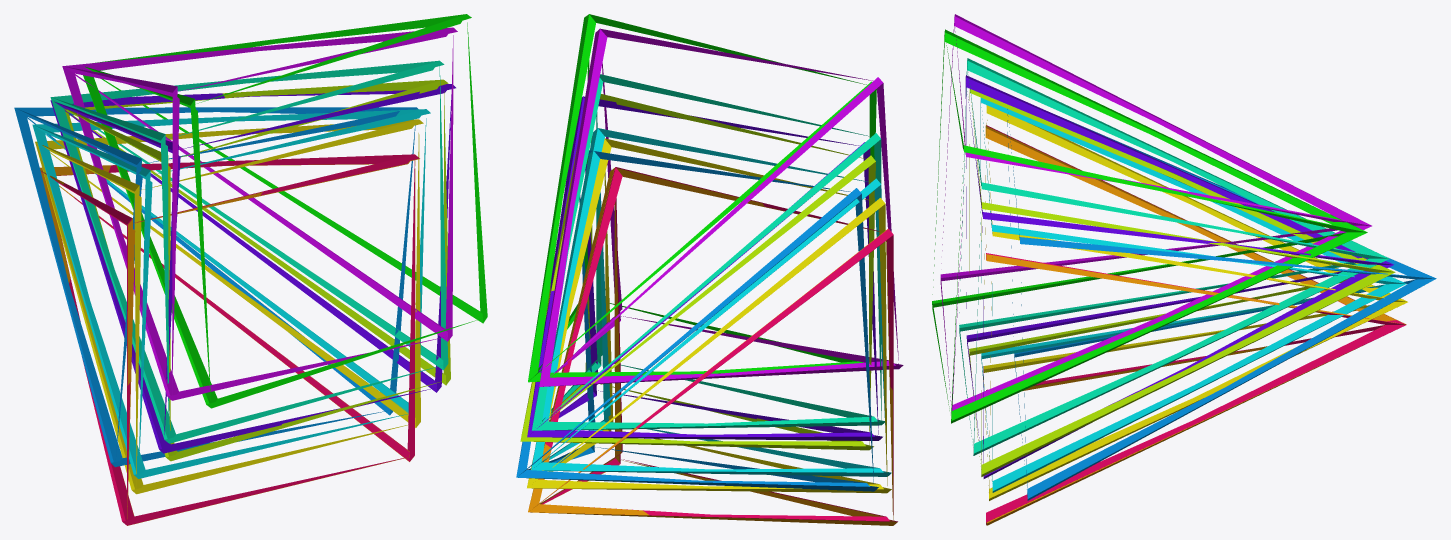
The model's file is glbscene_50_All_maskbFalse_maskwFalse_camTrue_skyFalse_predDepthmap_and_Camera_Branch.glb.
The picture shows the model from 3 angles, left to right: view 1: azimuth 30°, elevation 25°; view 2: azimuth 150°, elevation 25°; view 3: azimuth 270°, elevation 25°; orthographic projection. The views are drawn at different scales.
Visible parts, largest first — view 1: world; view 2: world; view 3: world.
Boxes of the visible parts, x1,y1,x2,y2 form: world: (14,14,487,525); world: (516,14,903,525); world: (932,14,1436,525).
Size of the model in its own units: 0.124 by 0.1539 by 0.1747.
